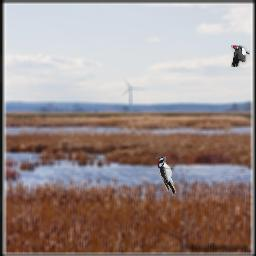Woodpecker: (158, 156, 176, 196), (231, 45, 250, 67)
